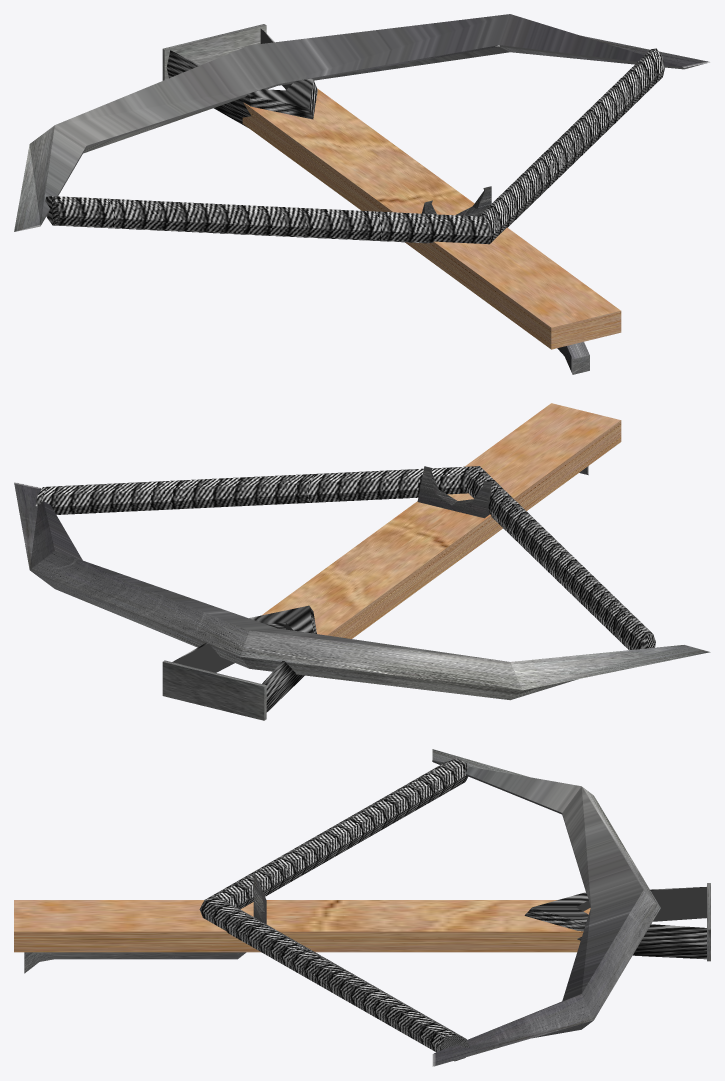
Rendered from Crossbow26.obj.
The picture shows the model from 3 angles, top to bottom: view 1: azimuth 30°, elevation 25°; view 2: azimuth 150°, elevation 25°; view 3: azimuth 270°, elevation 25°; orthographic projection. The views are drawn at different scales.
Parts seen in each view (by area): view 1: Sphere; view 2: Sphere; view 3: Sphere.
Part boxes in pixels (x1=…): Sphere: x1=14, y1=14, x2=710, y2=374; Sphere: x1=14, y1=403, x2=710, y2=720; Sphere: x1=14, y1=749, x2=710, y2=1066.
Size of the model in its own units: 5.04 by 0.6142 by 4.67.
